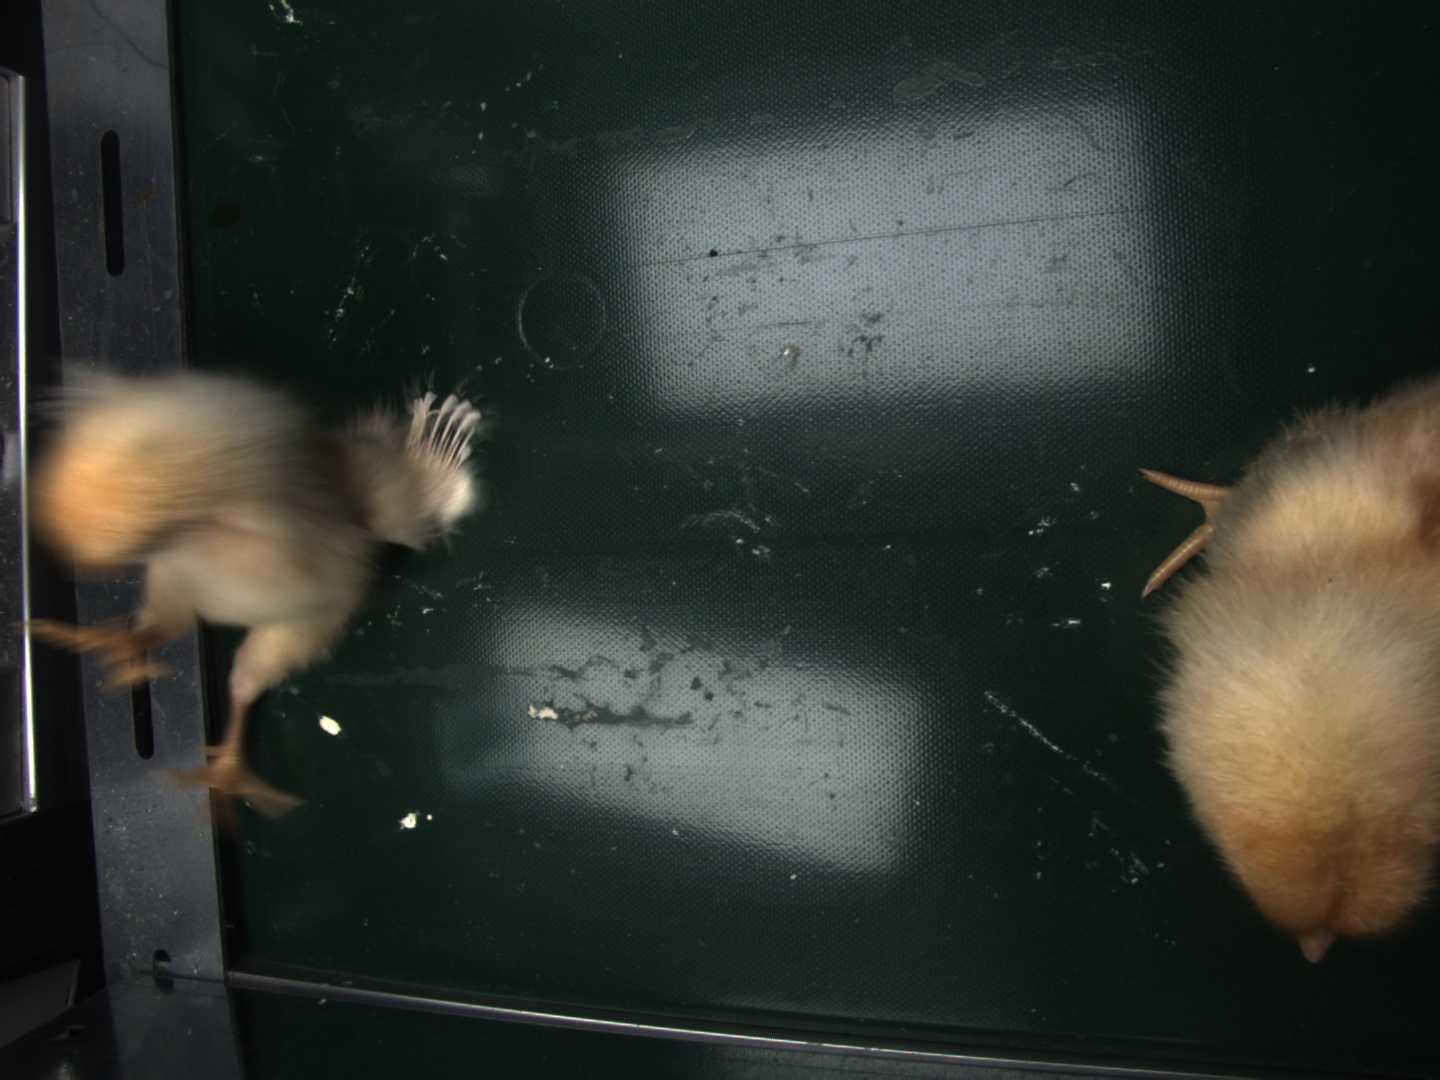female: (403, 396, 478, 469)
